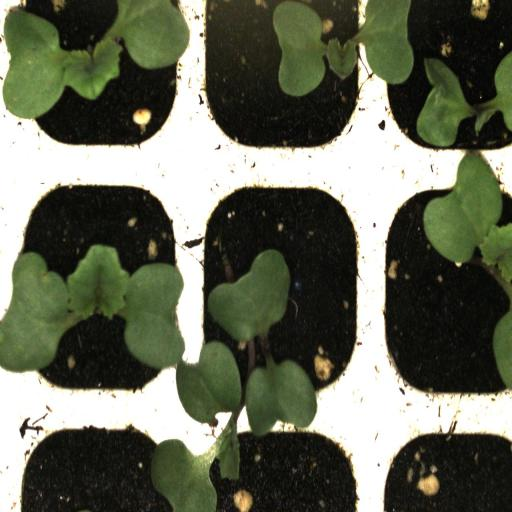seedling: (10, 168, 184, 422), (376, 169, 512, 422), (192, 0, 374, 168), (7, 0, 189, 166), (375, 0, 512, 168)
twoseedling: (184, 170, 376, 424)
